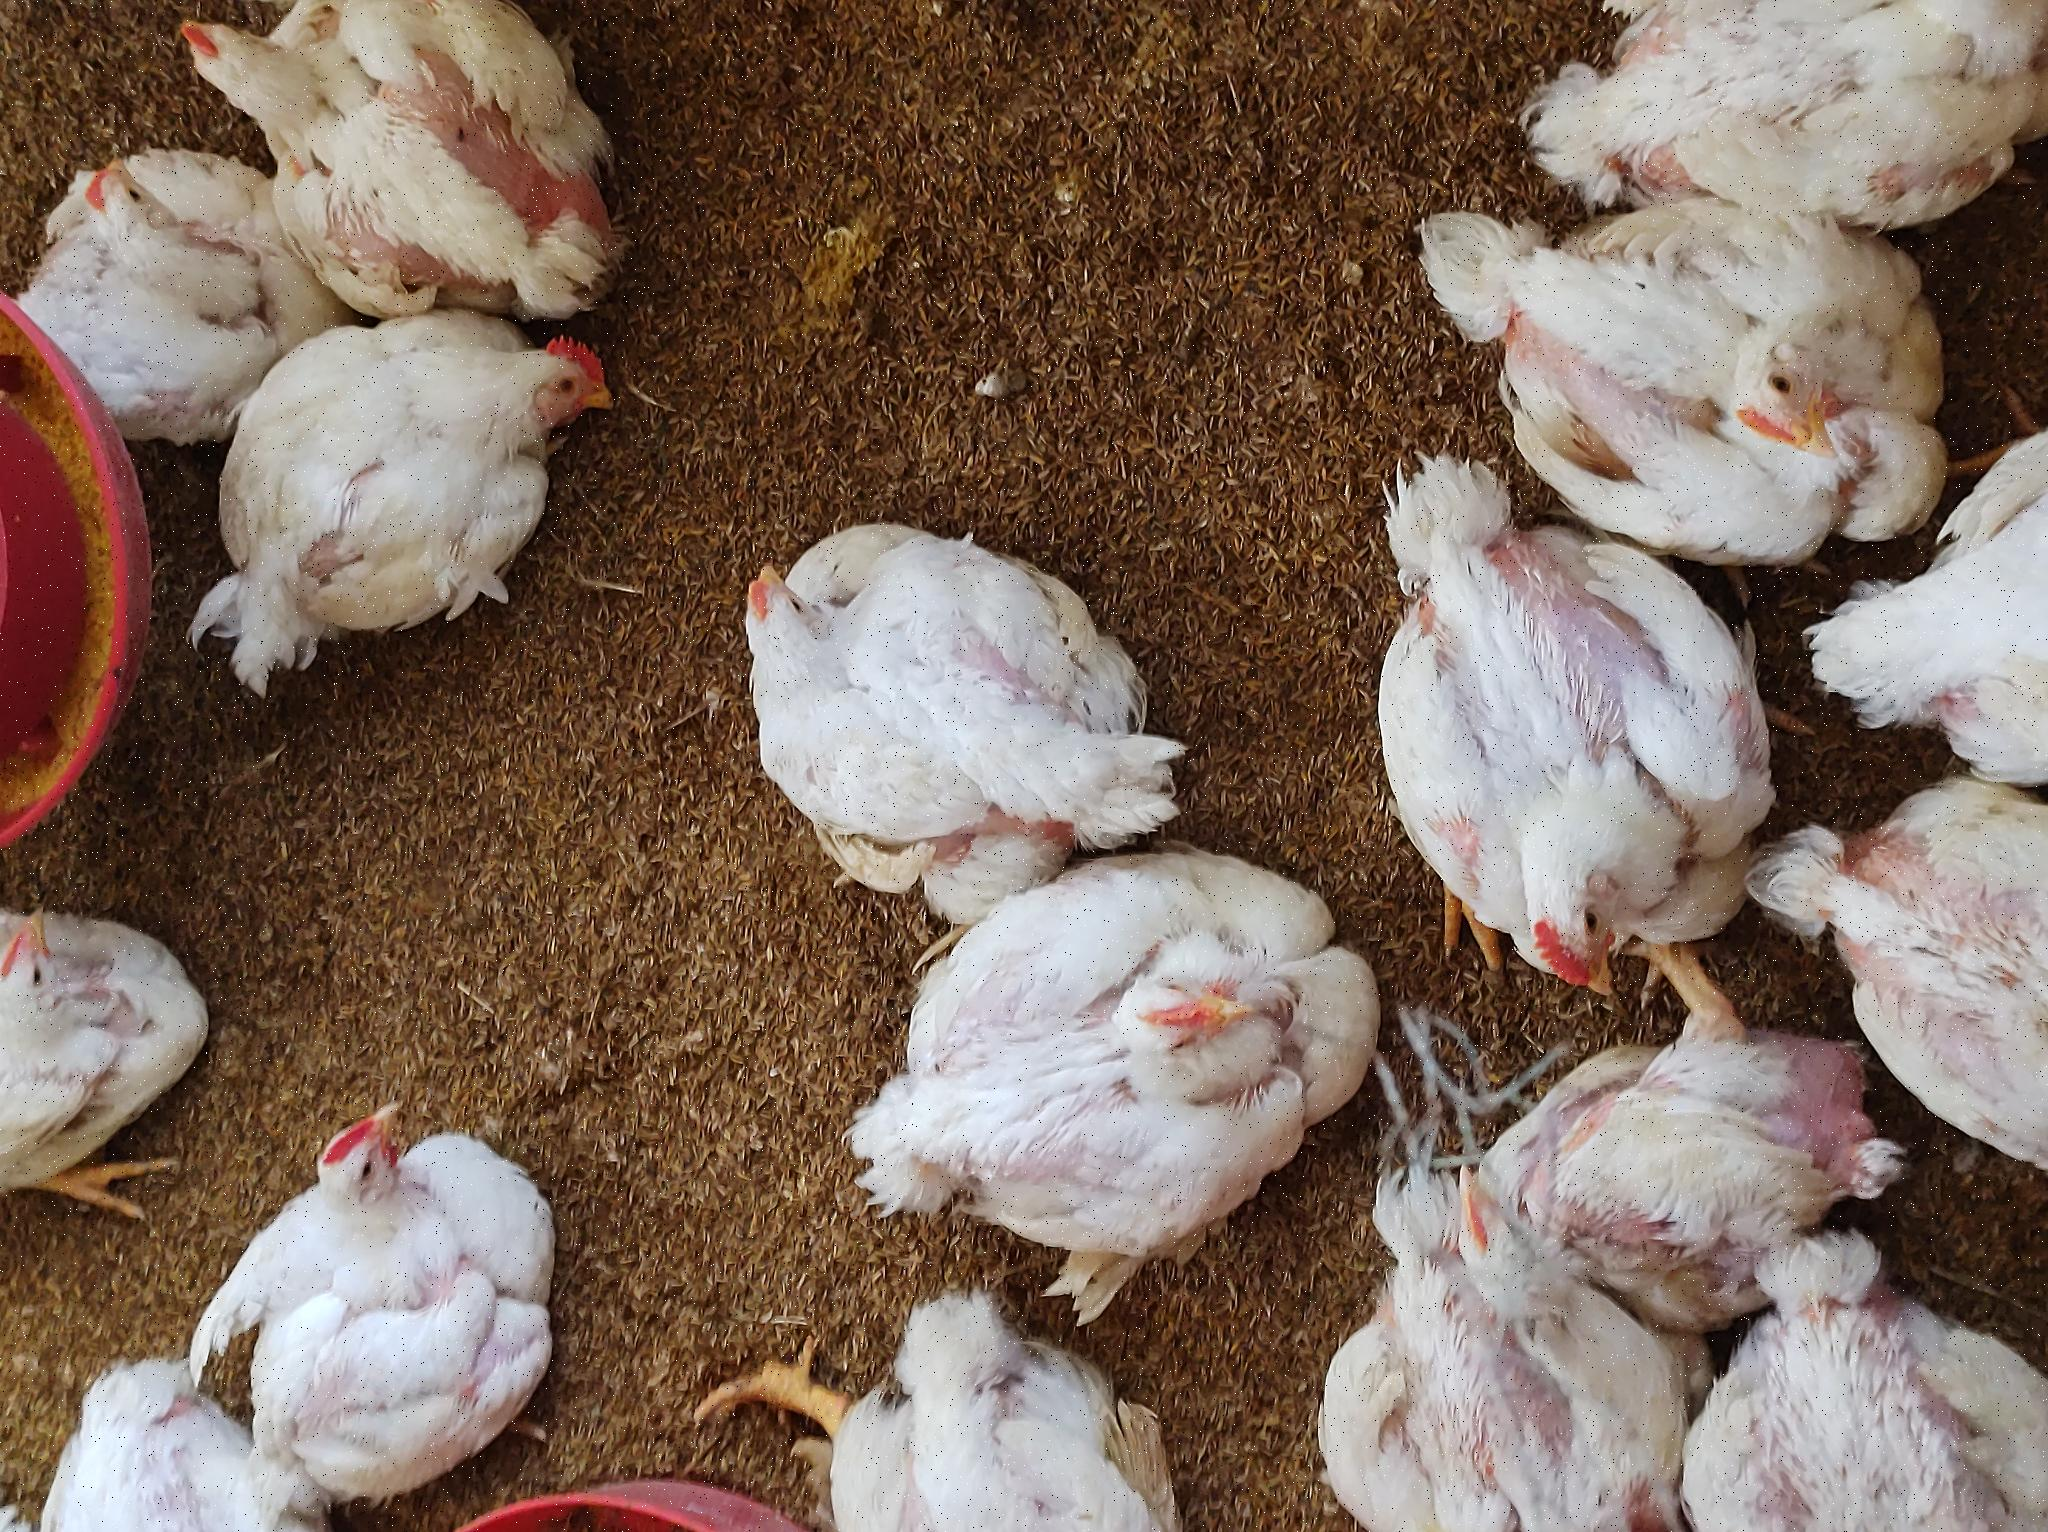Pollos: (224, 855, 690, 1398), (853, 154, 1224, 674), (26, 230, 439, 644), (655, 747, 1054, 1172), (1176, 180, 1533, 637), (2, 649, 309, 1133), (1096, 5, 1396, 301), (304, 2, 672, 229), (533, 1349, 986, 1532), (2, 1321, 376, 1532), (2, 27, 201, 369)
